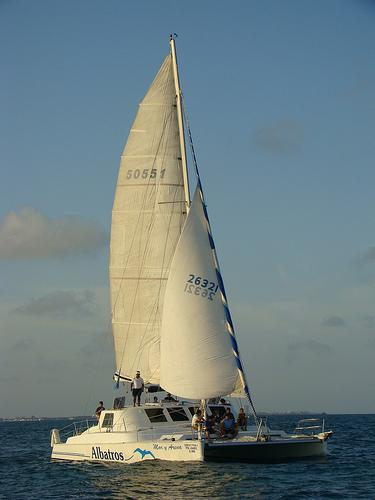Ship: (50, 42, 335, 467)
